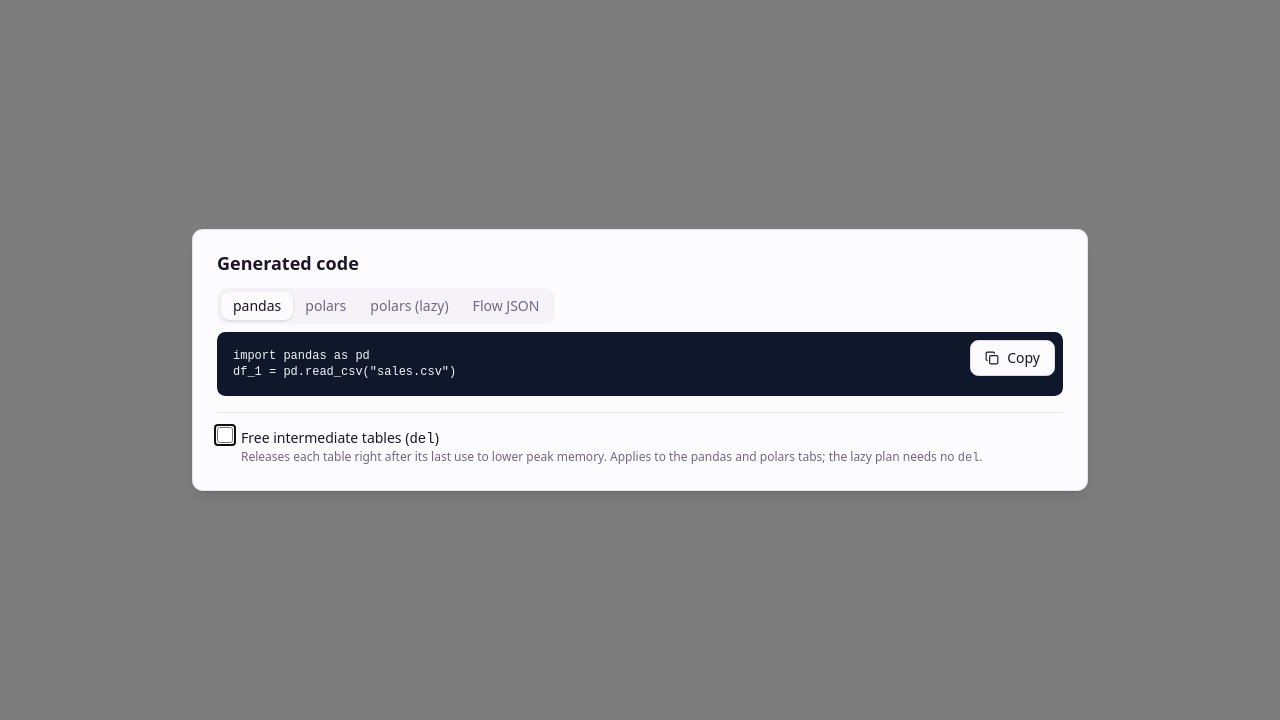
it: ExportCodeDialog › reveals the lazy scan_csv script on the lazy tab
expect the text "import pandas as pd df_1 = pd.read_csv(\"sales.csv\")" is shown: met, box [233, 349, 456, 379]
Step 1. Click the tab "polars (lazy)" → (409, 306), box [358, 292, 461, 320]
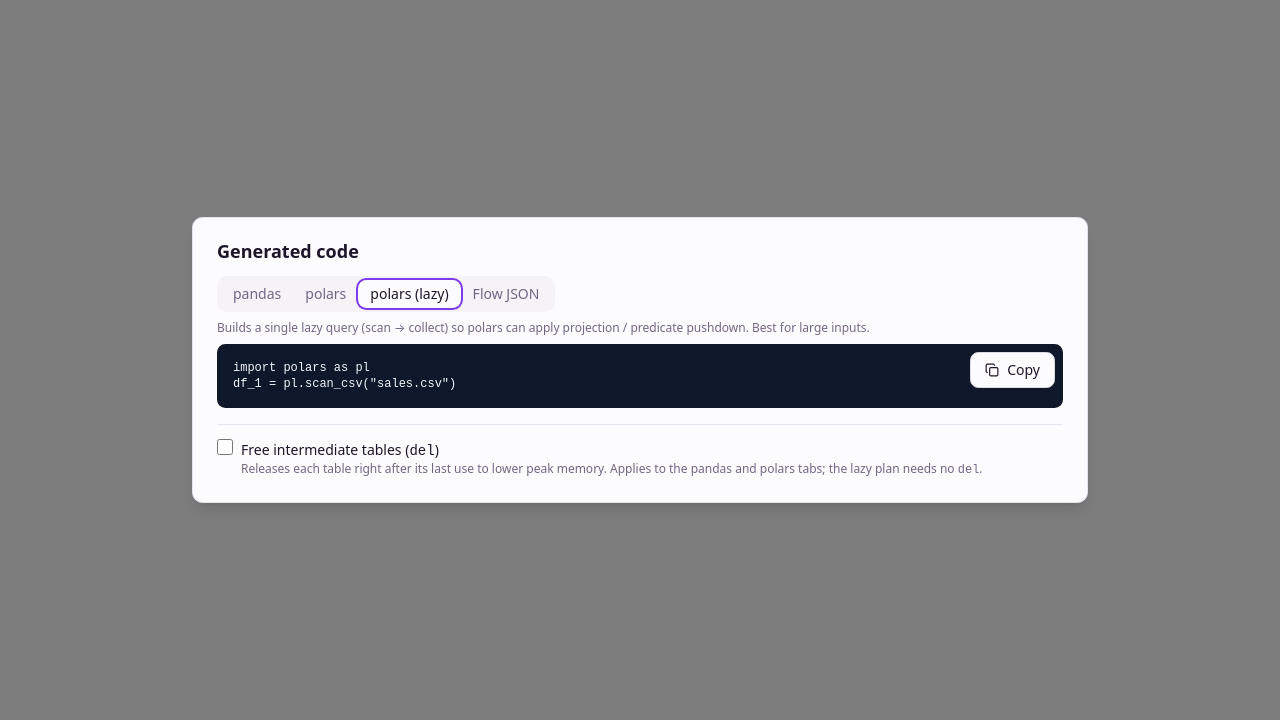
expect the text "import polars as pl df_1 = pl.scan_csv(\"sales.csv\")" is shown: met, box [233, 361, 456, 391]
